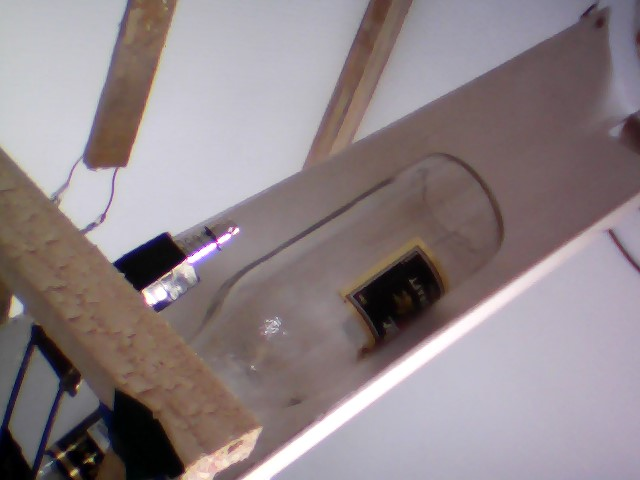vidrio: (174, 149, 510, 417)
